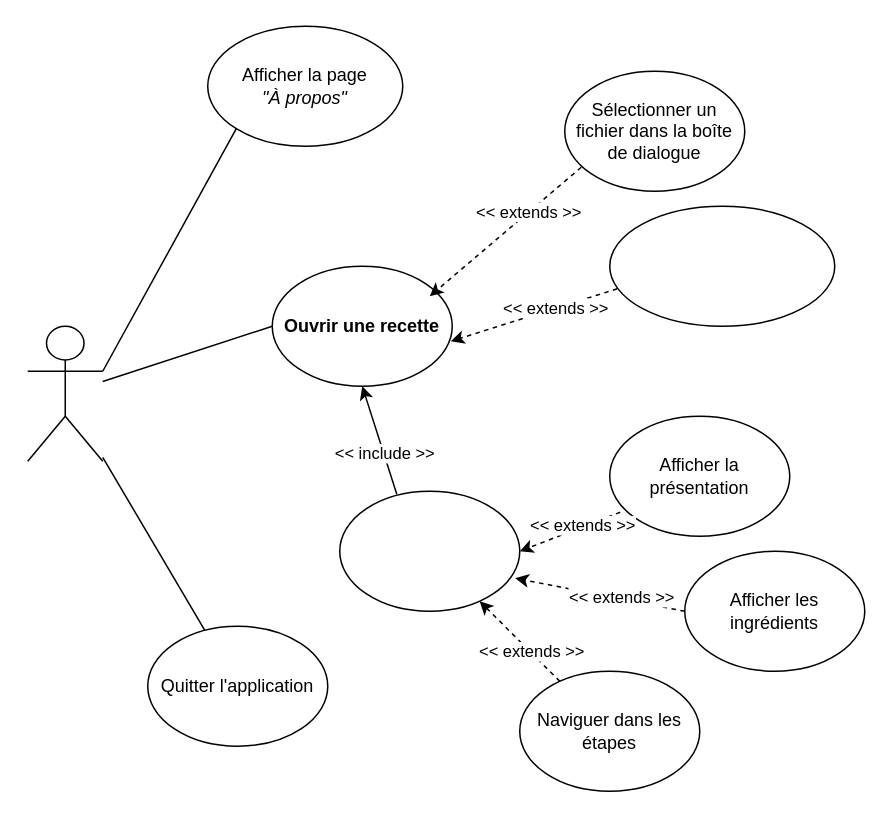
Image size: 891x818. Some labels were removed from this diagram. The centre of each missing label's shape, as x and y in pixels:
Glisser et déposer un fichier sur l'application: point 721,265
Interagir avec l'affichage de la recette: point 429,550
Utilisateur: point 64,393
